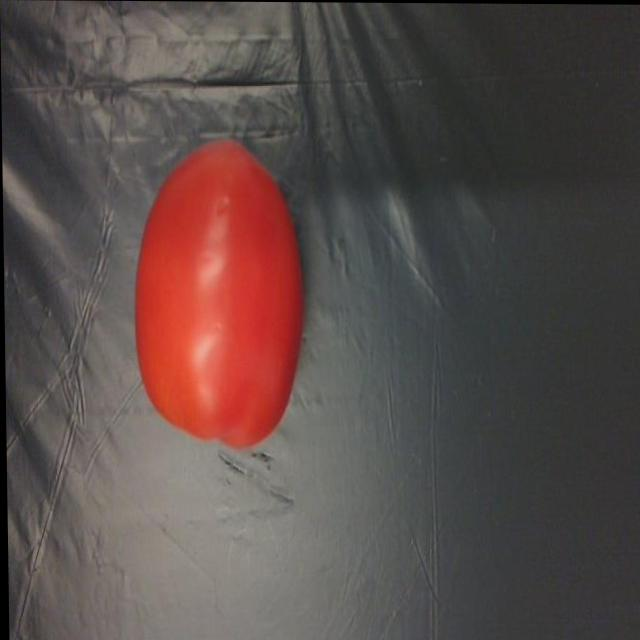kirmizi: (138, 133, 325, 462)
